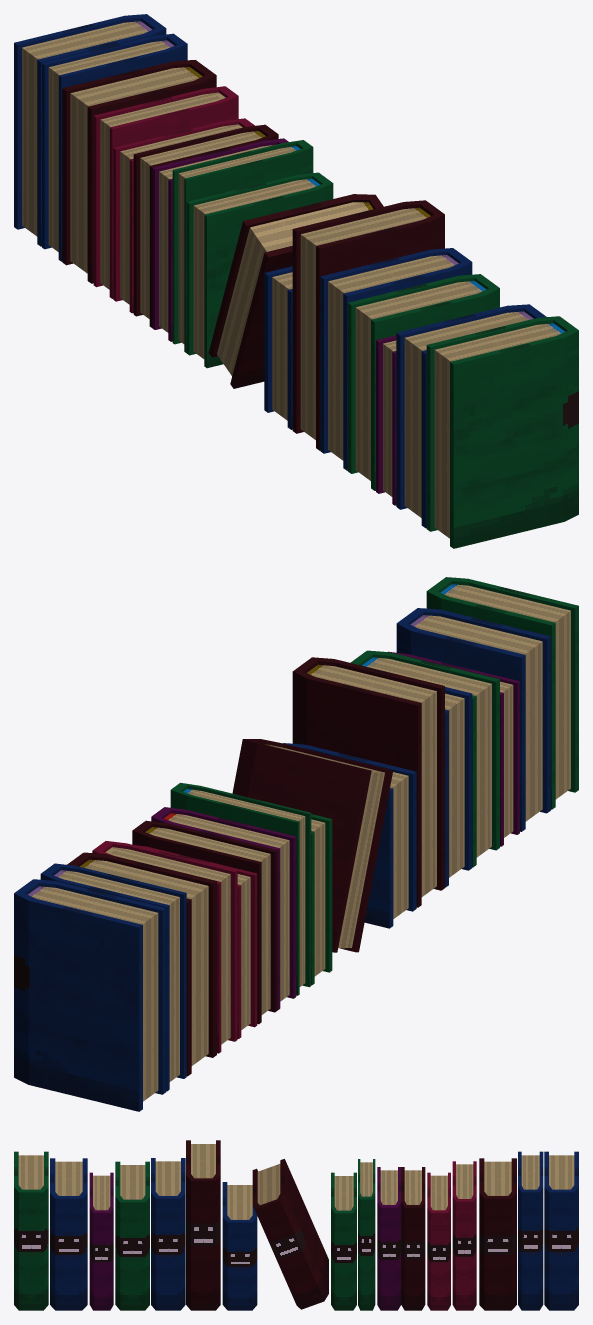
File: E_Books.4.fbx
3 views of the same model, one above another, from view 1: azimuth 30°, elevation 25°; view 2: azimuth 150°, elevation 25°; view 3: azimuth 270°, elevation 25° (orthographic). The views are drawn at different scales.
Parts seen in each view (by area): view 1: Cube.012; view 2: Cube.012; view 3: Cube.012.
Boxes of the visible parts, x1,y1,x2,y2 form: Cube.012: (14, 14, 578, 548); Cube.012: (14, 577, 578, 1111); Cube.012: (14, 1140, 578, 1310).
Bounding box in the file's own units: 37.81 × 56.89 × 223.
